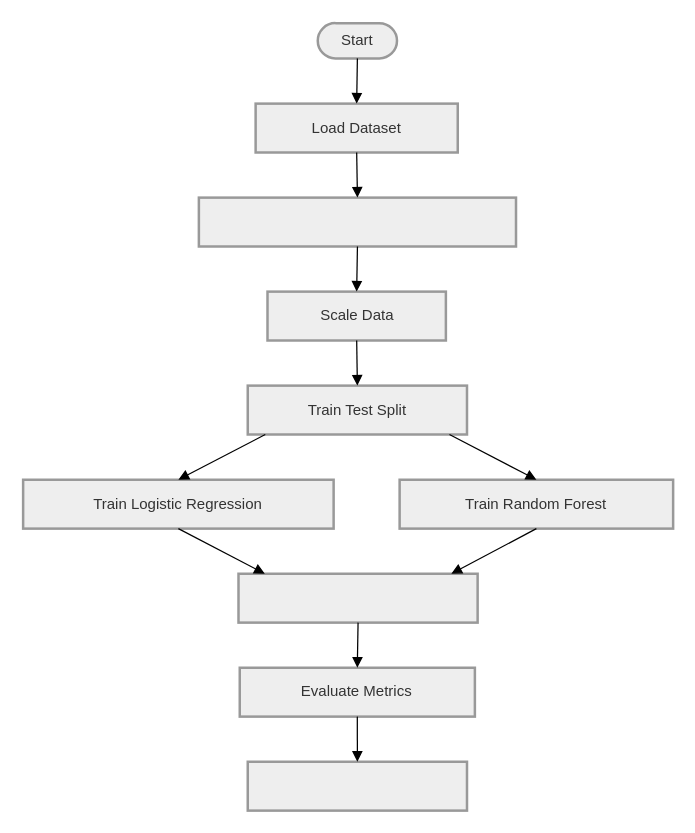
Image size: 695x833. Some labels were removed from this diagram. Each missing label, with the centre of its shape:
"Display Results" goes at [357,785].
"Make Predictions" goes at [357,597].
"Split Features and Target" goes at [357,221].
